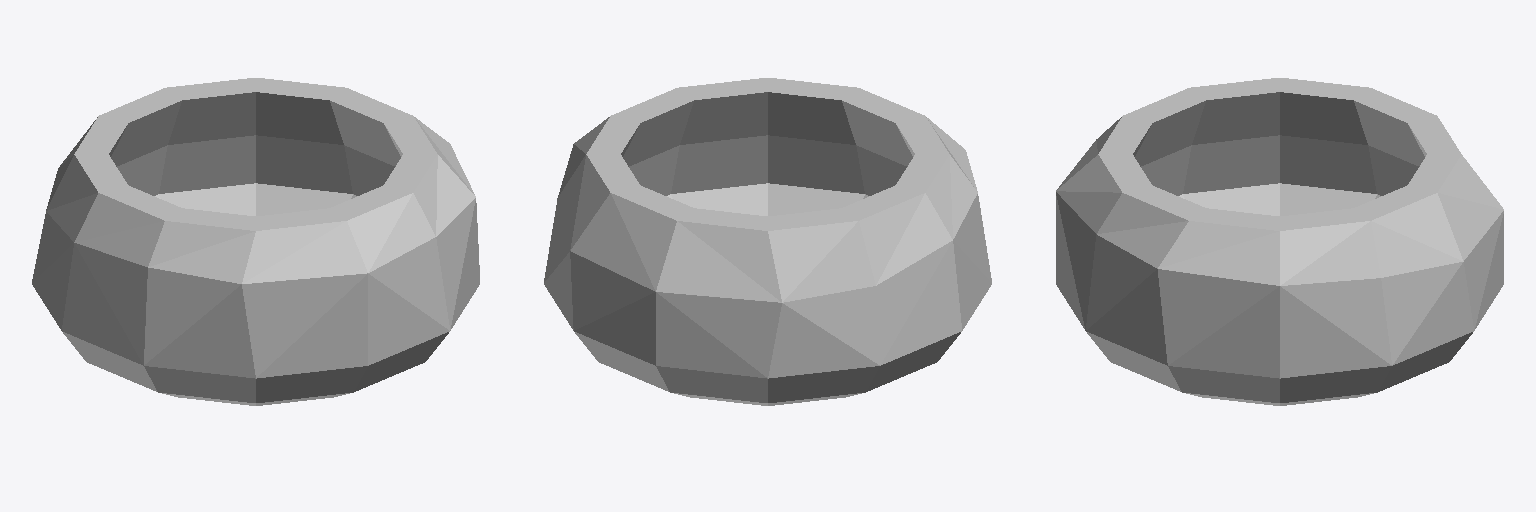
Rendered from bowl.obj.
3 views of the same model, side by side, from view 1: azimuth 30°, elevation 25°; view 2: azimuth 150°, elevation 25°; view 3: azimuth 270°, elevation 25° (orthographic).
Bounding box in the file's own units: 0.22 × 0.11 × 0.22.